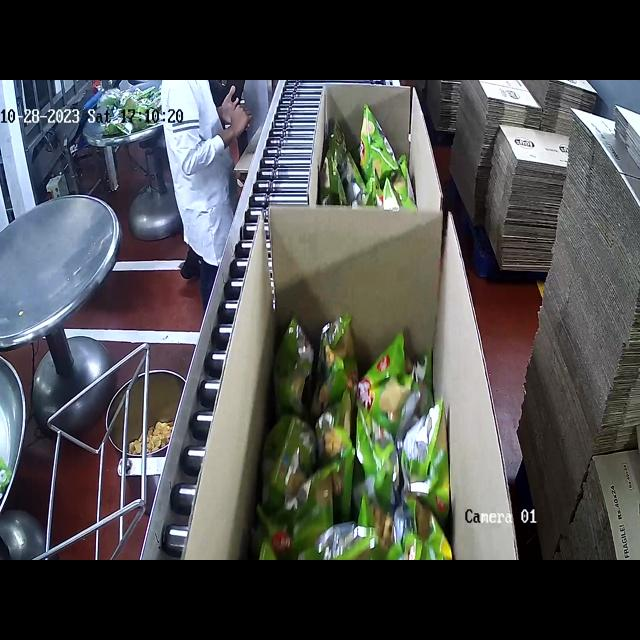yogurt: (273, 311, 459, 560), (317, 101, 417, 211)
